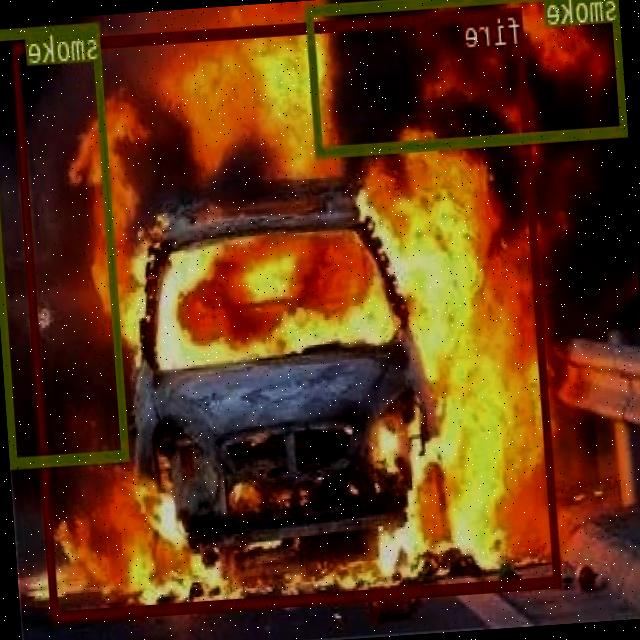fire: (13, 5, 562, 620)
smoke: (0, 20, 130, 464), (306, 0, 628, 155)
